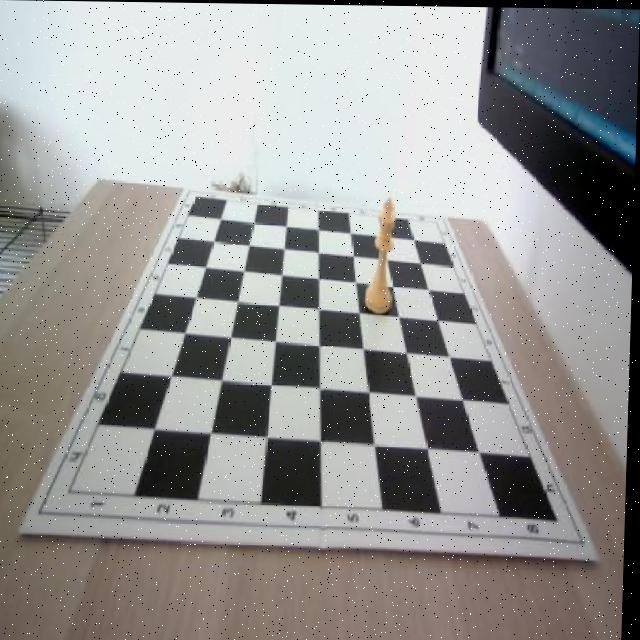white-bishop: (365, 195, 397, 312)
